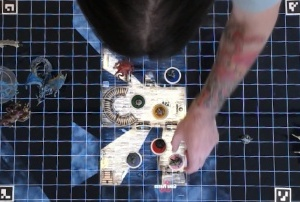blue: (164, 65, 183, 84)
green: (130, 92, 146, 108)
pink: (166, 152, 184, 172)
red: (150, 137, 169, 155)
violet: (126, 150, 144, 168)
yellow: (151, 101, 169, 117)
